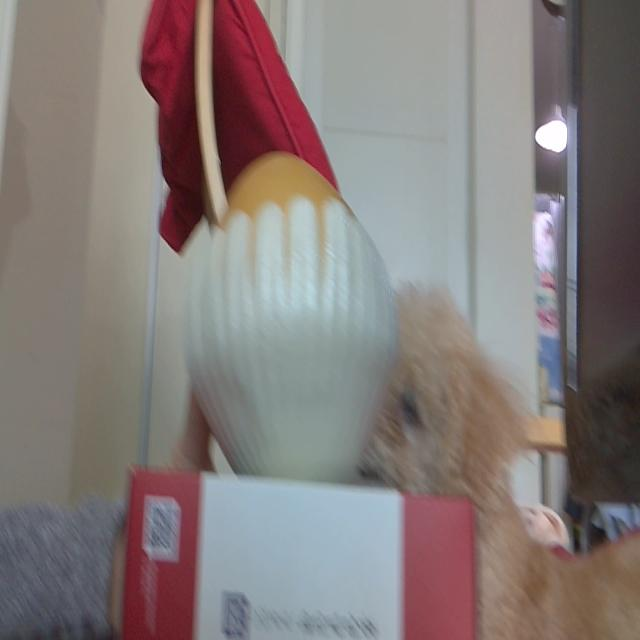pear: (177, 141, 398, 482)
